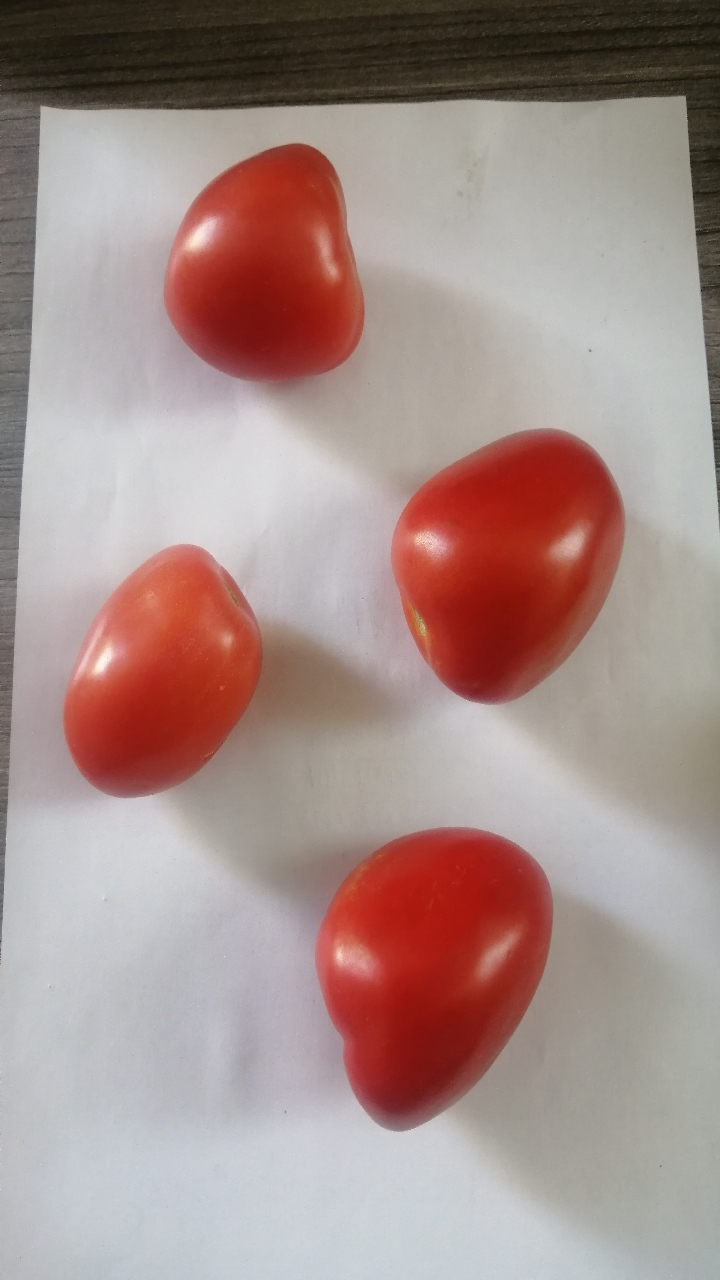tomateRojo: (303, 814, 572, 1151), (361, 415, 638, 717), (144, 128, 391, 403), (51, 532, 280, 814)
